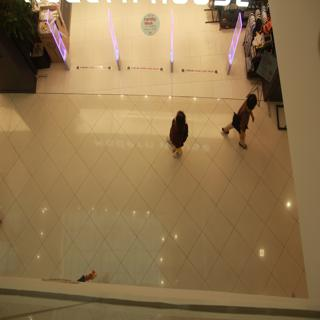person: (232, 80, 260, 155), (164, 99, 192, 164)
